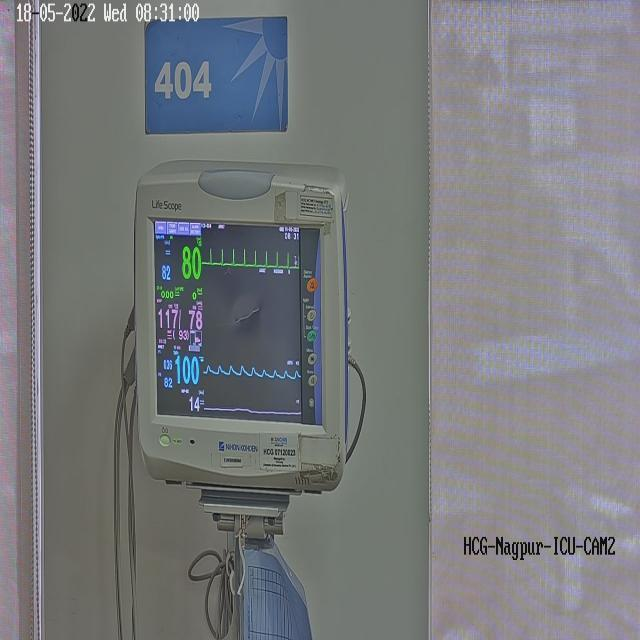Monitor: (132, 158, 350, 496)
